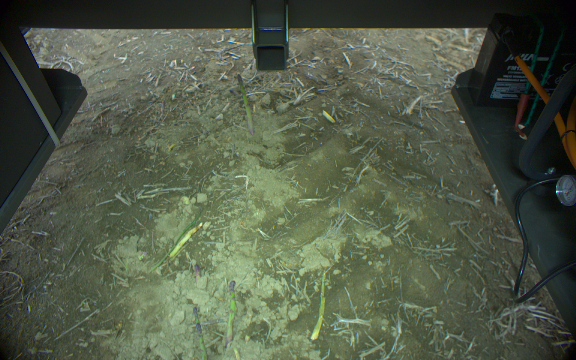aspa: (308, 268, 328, 344), (169, 221, 203, 258), (190, 308, 212, 360), (224, 278, 239, 345), (237, 75, 254, 134)
